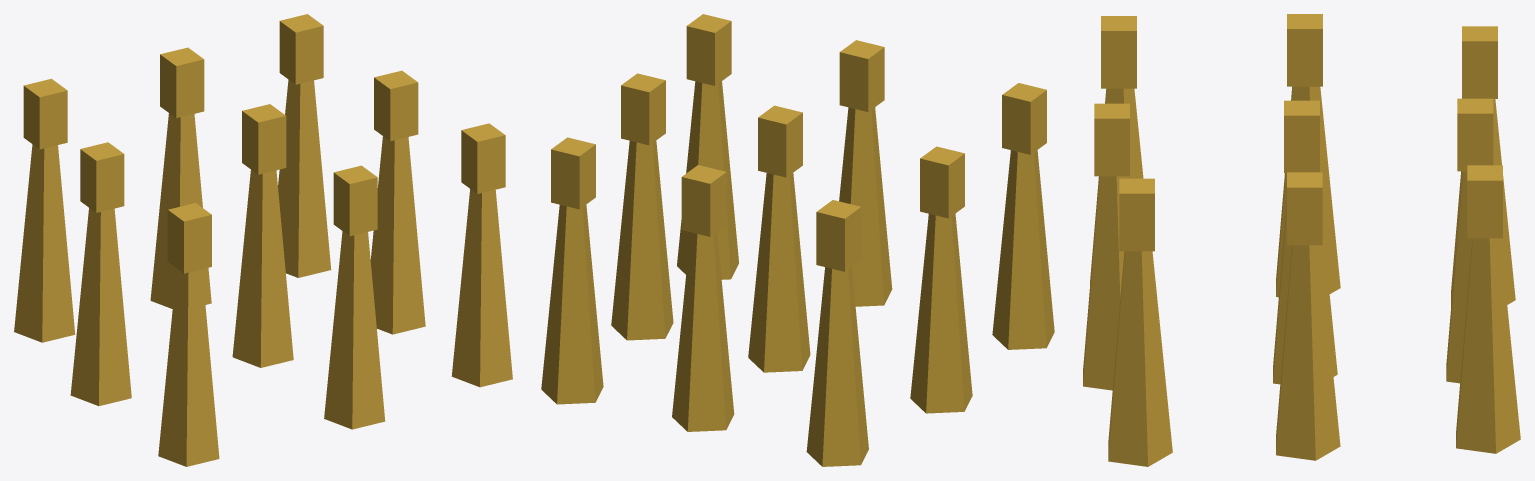
File: crop_wheat_mature.glb
3 renders of one model, left to right at view 1: azimuth 30°, elevation 25°; view 2: azimuth 150°, elevation 25°; view 3: azimuth 270°, elevation 25°, orthographic. The views are drawn at different scales.
Parts seen in each view (by area): view 1: crop_wheat_mature; view 2: crop_wheat_mature; view 3: crop_wheat_mature.
Boxes of the visible parts, x1,y1,x2,y2 form: crop_wheat_mature: [14, 14, 512, 466]; crop_wheat_mature: [541, 14, 1054, 466]; crop_wheat_mature: [1083, 14, 1520, 466].
Bounding box in the file's own units: 1.15 × 0.74 × 1.1.
